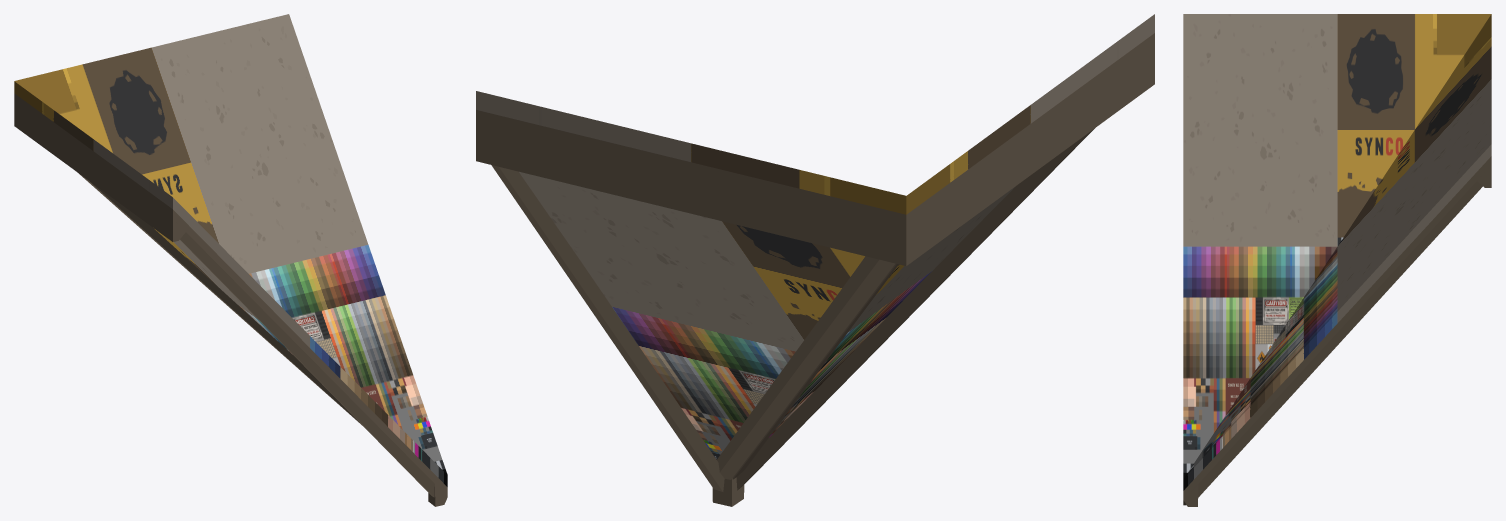
The model's file is SM_Bld_Base_Roof_Corner_In_01.glb.
3 views of the same model, side by side, from view 1: azimuth 30°, elevation 25°; view 2: azimuth 150°, elevation 25°; view 3: azimuth 270°, elevation 25° (orthographic). The views are drawn at different scales.
Parts seen in each view (by area): view 1: SM_Bld_Base_Roof_Corner_In_01; view 2: SM_Bld_Base_Roof_Corner_In_01; view 3: SM_Bld_Base_Roof_Corner_In_01.
Boxes of the visible parts, x1,y1,x2,y2 form: SM_Bld_Base_Roof_Corner_In_01: (14,14,447,506); SM_Bld_Base_Roof_Corner_In_01: (476,14,1154,506); SM_Bld_Base_Roof_Corner_In_01: (1183,14,1491,506).
Bounding box in the file's own units: 2.5 × 3.25 × 2.5.
3 materials, 3 textured.
